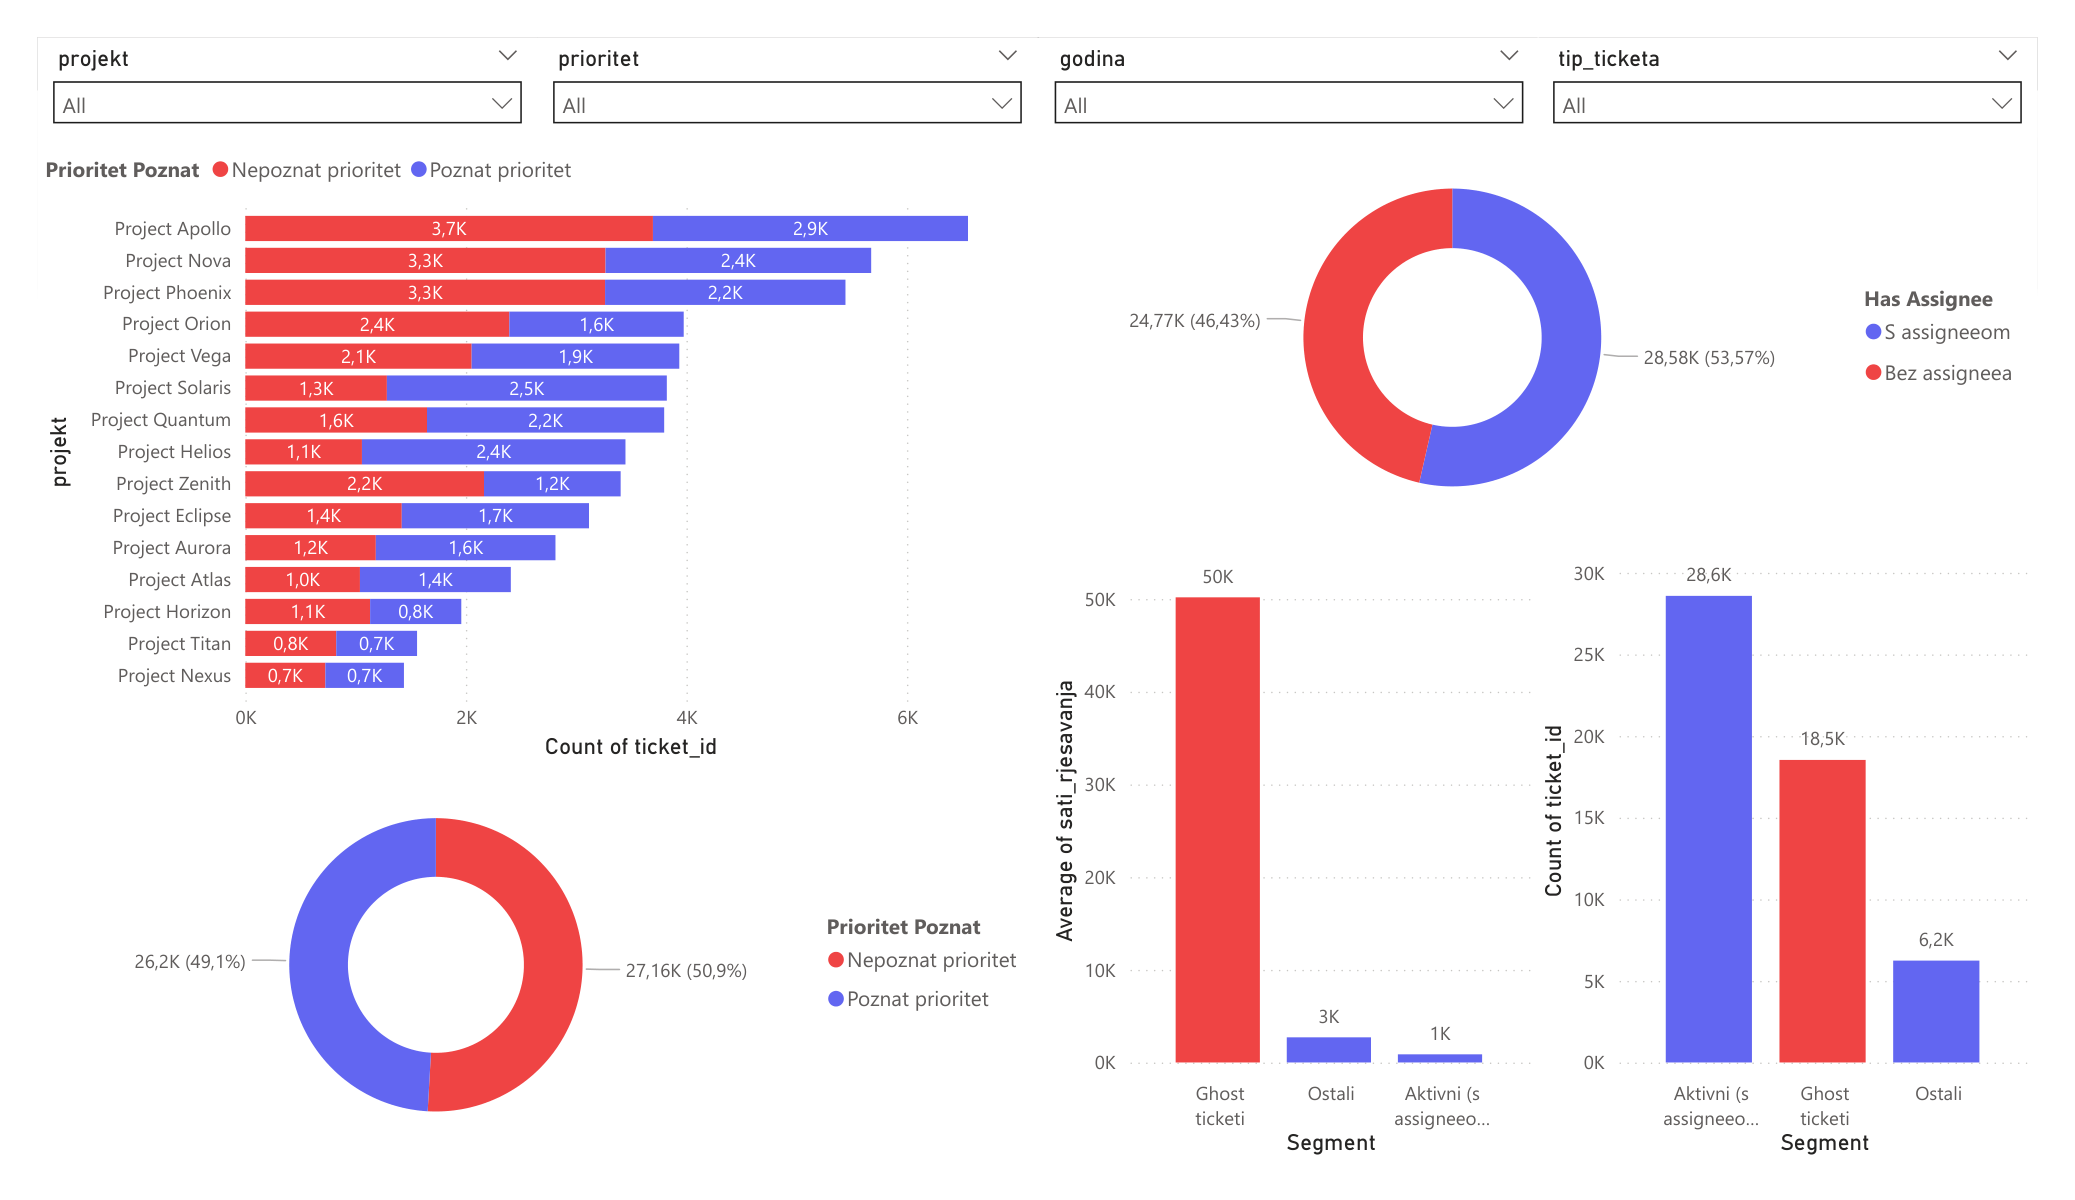

The page's visual inventory and layout, read from the dashboard file:
{"tool":"powerbi","page":{"name":"Kvaliteta podataka","canvas":[1280,720],"ordinal":3},"visuals":[{"type":"donutChart","fields":{"Category":["Query1.Has Assignee"],"Y":["CountNonNull(Query1.ticket_id)"]},"box":[637.2,64.3,640.6,256],"z":0},{"type":"donutChart","fields":{"Category":["Query1.Prioritet Poznat"],"Y":["CountNonNull(Query1.ticket_id)"]},"box":[0,466.9,640.6,252.6],"z":1000},{"type":"columnChart","fields":{"Category":["Query1.Segment"],"Y":["CountNonNull(Query1.ticket_id)"]},"box":[957.5,320.3,322.5,399.2],"z":2000},{"type":"columnChart","fields":{"Category":["Query1.Segment"],"Y":["Avg(Query1.sati_rjesavanja)"]},"box":[643.9,320.3,316.9,399.2],"z":3000},{"type":"barChart","fields":{"Category":["Query1.projekt"],"Y":["CountNonNull(Query1.ticket_id)"],"Series":["Query1.Prioritet Poznat"]},"box":[0,64.3,639.4,402.6],"z":4000},{"type":"slicer","fields":{"Values":["Query1.tip_ticketa"]},"box":[960,0,320,64.2],"z":5000},{"type":"slicer","fields":{"Values":["Query1.godina"]},"box":[640.6,0,320.3,64.3],"z":6000},{"type":"slicer","fields":{"Values":["Query1.prioritet"]},"box":[320,0,320,64.2],"z":7000},{"type":"slicer","fields":{"Values":["Query1.projekt"]},"box":[0,0,320,64.2],"z":8000}]}

Visuals, with their boxes on the page's 1280x720 design canvas (x1, y1, x2, y2). These are canvas units, not pixel positions in the 2075x1200 screenshot, which may show the page scaled, cropped or inside an application window:
donutChart - Query1.Has Assignee x CountNonNull(Query1.ticket_id): (637,64,1278,320)
donutChart - Query1.Prioritet Poznat x CountNonNull(Query1.ticket_id): (0,467,641,720)
columnChart - Query1.Segment x CountNonNull(Query1.ticket_id): (958,320,1280,720)
columnChart - Query1.Segment x Avg(Query1.sati_rjesavanja): (644,320,961,720)
barChart - Query1.projekt x CountNonNull(Query1.ticket_id): (0,64,639,467)
slicer - Query1.tip_ticketa: (960,0,1280,64)
slicer - Query1.godina: (641,0,961,64)
slicer - Query1.prioritet: (320,0,640,64)
slicer - Query1.projekt: (0,0,320,64)
